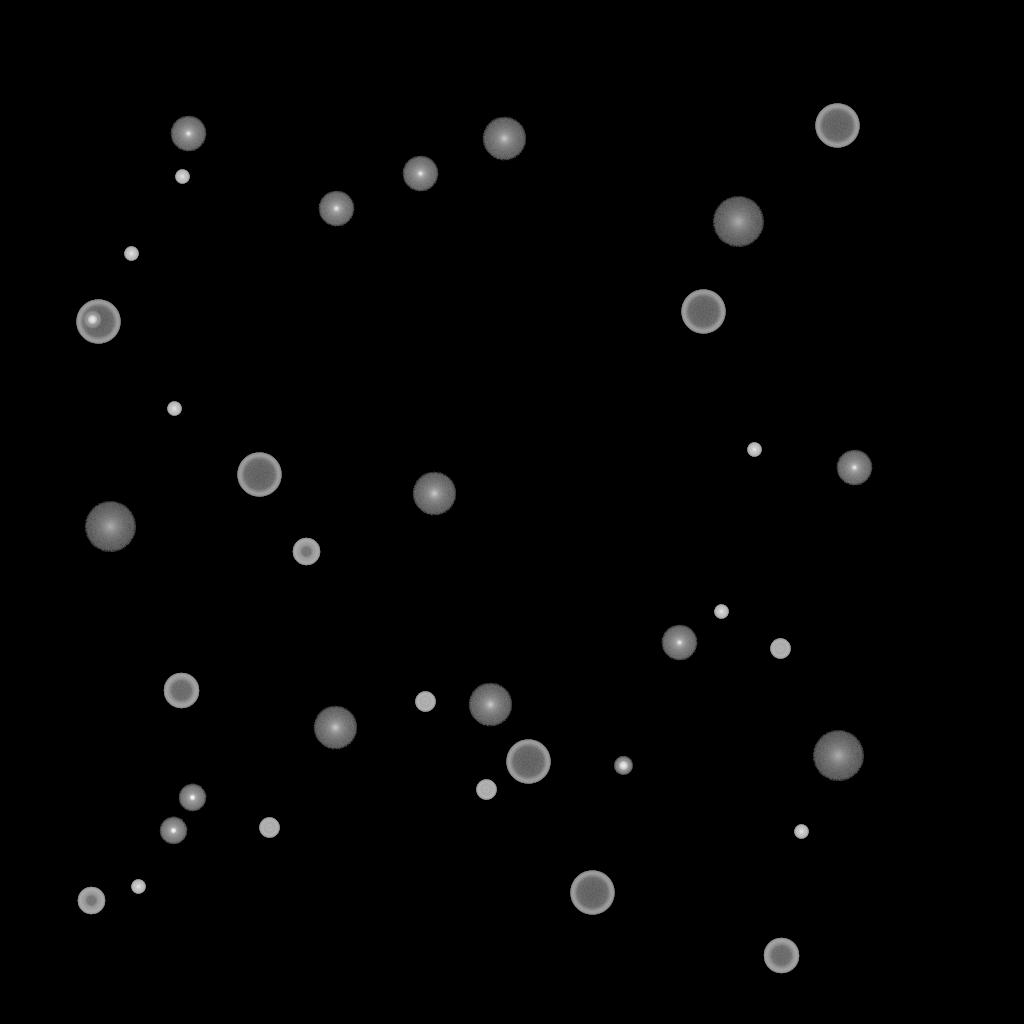depth:-10: (178, 784, 206, 812), (159, 817, 187, 845)
depth:-20: (83, 311, 101, 329), (614, 757, 632, 775)
depth:-30: (747, 443, 761, 457), (131, 880, 145, 894), (794, 825, 808, 839), (124, 247, 138, 261), (167, 402, 181, 416), (175, 170, 189, 184), (714, 605, 728, 619)
depth:-40: (259, 818, 279, 838), (476, 780, 496, 800), (415, 692, 435, 712), (770, 639, 790, 659)
depth:-50: (77, 887, 105, 915), (292, 538, 320, 566)
depth:-60: (763, 938, 799, 974), (163, 673, 199, 709)
depth:-70: (76, 300, 120, 344), (681, 290, 725, 334), (237, 453, 281, 497), (570, 871, 614, 915), (506, 740, 550, 784), (815, 104, 859, 148)
depth:0: (661, 625, 697, 661), (318, 191, 354, 227), (836, 450, 872, 486), (170, 116, 206, 152), (402, 156, 438, 192)
depth:10: (313, 706, 357, 750), (412, 472, 456, 516), (468, 683, 512, 727), (482, 117, 526, 161)
depth:20: (812, 731, 864, 781), (84, 502, 136, 552), (712, 197, 764, 247)
